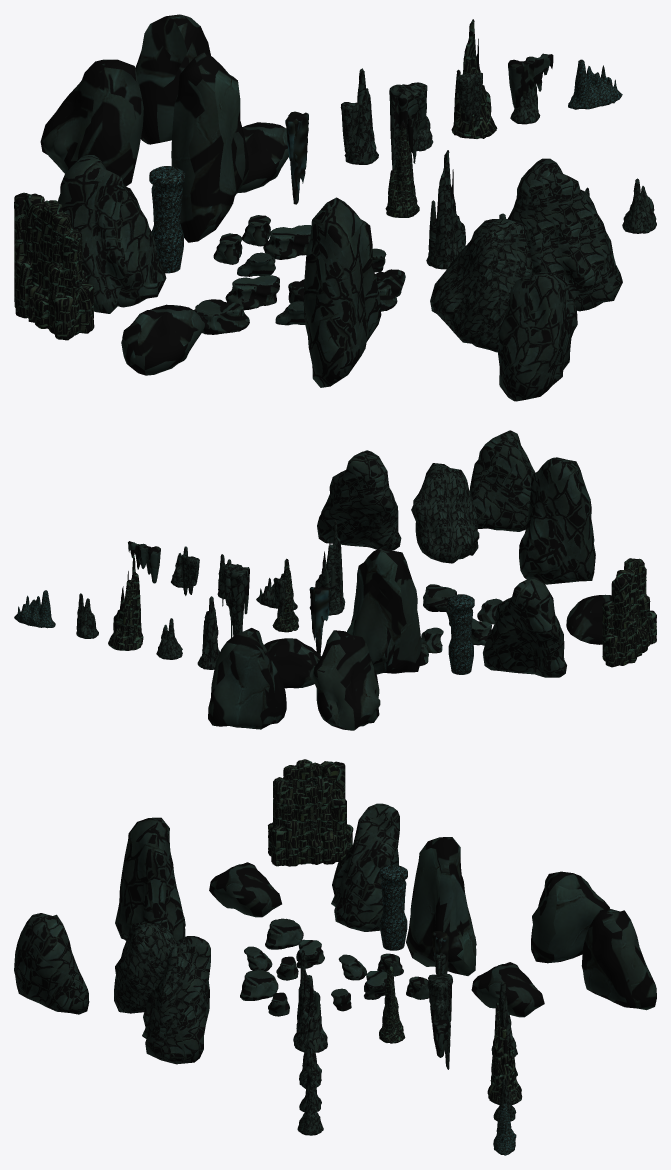
Rendered from Rocks.fbx.
3 views of the same model, one above another, from view 1: azimuth 30°, elevation 25°; view 2: azimuth 150°, elevation 25°; view 3: azimuth 270°, elevation 25° (orthographic). The views are drawn at different scales.
Parts seen in each view (by area): view 1: RockSet03-A.001, RockSet03-A, RockSet03-B, RockSet03-B.001, CaveCrystal1, RockSet03-D, RockSet03-D.001, RockSet03-C.001, RockSet03-C, RockSet03-E, Circle.001, CaveRockPack1_Low3.001 (+18 smaller); view 2: RockSet03-A.001, RockSet03-A, RockSet03-B, RockSet03-C, RockSet03-B.001, RockSet03-D, RockSet03-D.001, RockSet03-C.001, CaveCrystal1, RockSet03-E.001, Circle.001, CaveRockPack1_Low3 (+14 smaller); view 3: CaveCrystal1, RockSet03-A, RockSet03-B.001, RockSet03-A.001, RockSet03-B, RockSet03-C, RockSet03-C.001, RockSet03-D, RockSet03-D.001, RockSet03-E, RockSet03-E.001, Circle.001 (+12 smaller).
Part boxes in pixels (x1,y1,x2,y2): RockSet03-A.001: (303,197,381,387); RockSet03-A: (171,52,248,242); RockSet03-B: (58,154,166,313); RockSet03-B.001: (508,158,622,311); CaveCrystal1: (14,192,94,340); RockSet03-D: (40,59,143,186); RockSet03-D.001: (430,219,533,352); RockSet03-C.001: (497,271,577,401); RockSet03-C: (135,14,210,144); RockSet03-E: (121,304,204,375); Circle.001: (149,166,185,273); CaveRockPack1_Low3.001: (426,150,465,269); RockSet03-A.001: (519,457,595,584); RockSet03-A: (347,548,421,674); RockSet03-B: (483,577,566,677); RockSet03-C: (208,628,286,729); RockSet03-B.001: (317,450,401,550); RockSet03-D: (312,630,380,730); RockSet03-D.001: (411,463,479,563); RockSet03-C.001: (470,430,535,531); CaveCrystal1: (602,558,656,667); RockSet03-E.001: (264,638,321,688); Circle.001: (448,594,474,674); CaveRockPack1_Low3: (108,555,143,650); CaveCrystal1: (268,759,353,866); RockSet03-A: (406,837,476,975); RockSet03-B.001: (142,936,210,1064); RockSet03-A.001: (115,817,185,941); RockSet03-B: (331,803,399,931); RockSet03-C: (581,908,656,1010); RockSet03-C.001: (14,913,89,1014); RockSet03-D: (531,871,609,963); RockSet03-D.001: (114,922,176,1013); RockSet03-E: (209,862,281,917); RockSet03-E.001: (471,962,544,1017); Circle.001: (379,865,407,950).
Size of the model in its own units: 29380 by 7770 by 28562.
Materials: 3 (3 with a texture image).
